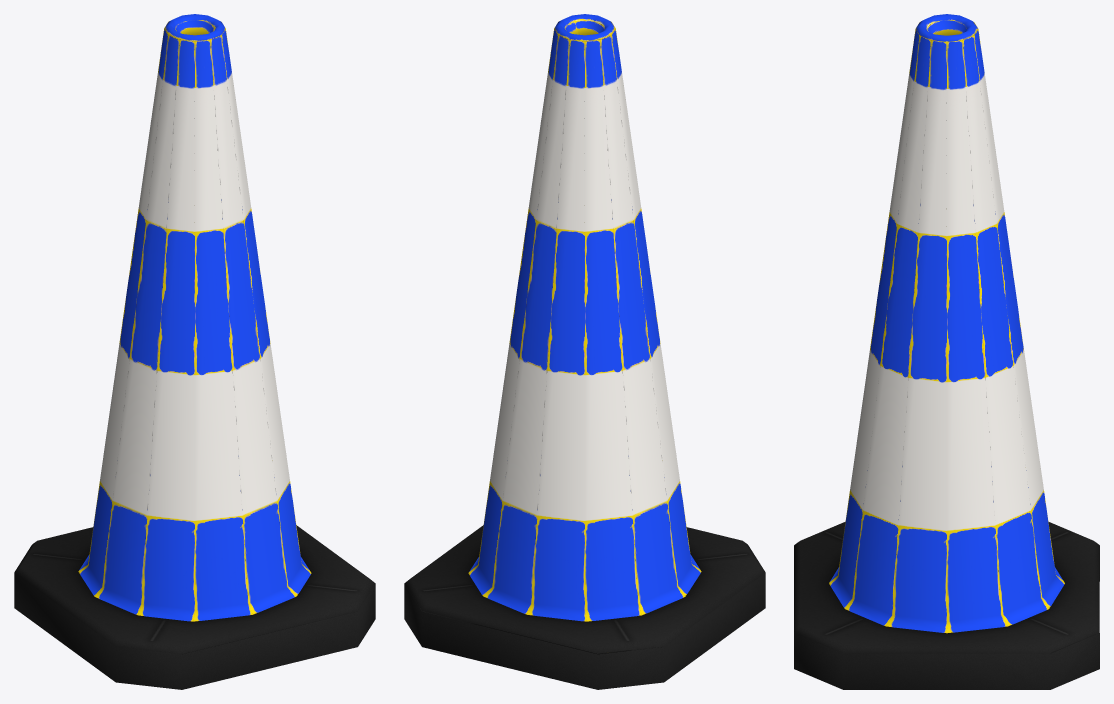
Rendered from construction_cone_b.dae.
3 renders of one model, left to right at view 1: azimuth 30°, elevation 25°; view 2: azimuth 150°, elevation 25°; view 3: azimuth 270°, elevation 25°, orthographic.
Parts seen in each view (by area): view 1: Box001; view 2: Box001; view 3: Box001.
Part boxes in pixels (box(x1,y1,x2,y2)): Box001: box(14, 14, 375, 689); Box001: box(404, 14, 765, 689); Box001: box(794, 14, 1099, 689).
Size of the model in its own units: 1.98 by 1.98 by 4.29.
